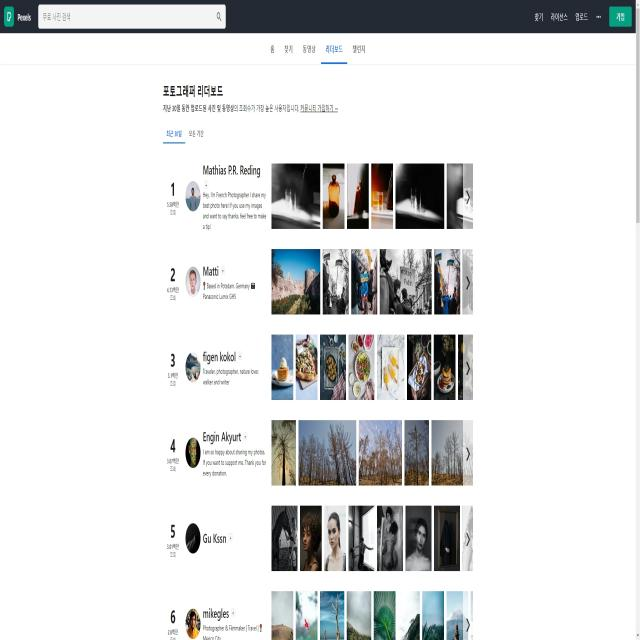menu-bar: (529, 4, 633, 28)
tab-bar: (263, 33, 369, 68), (159, 122, 211, 143)
